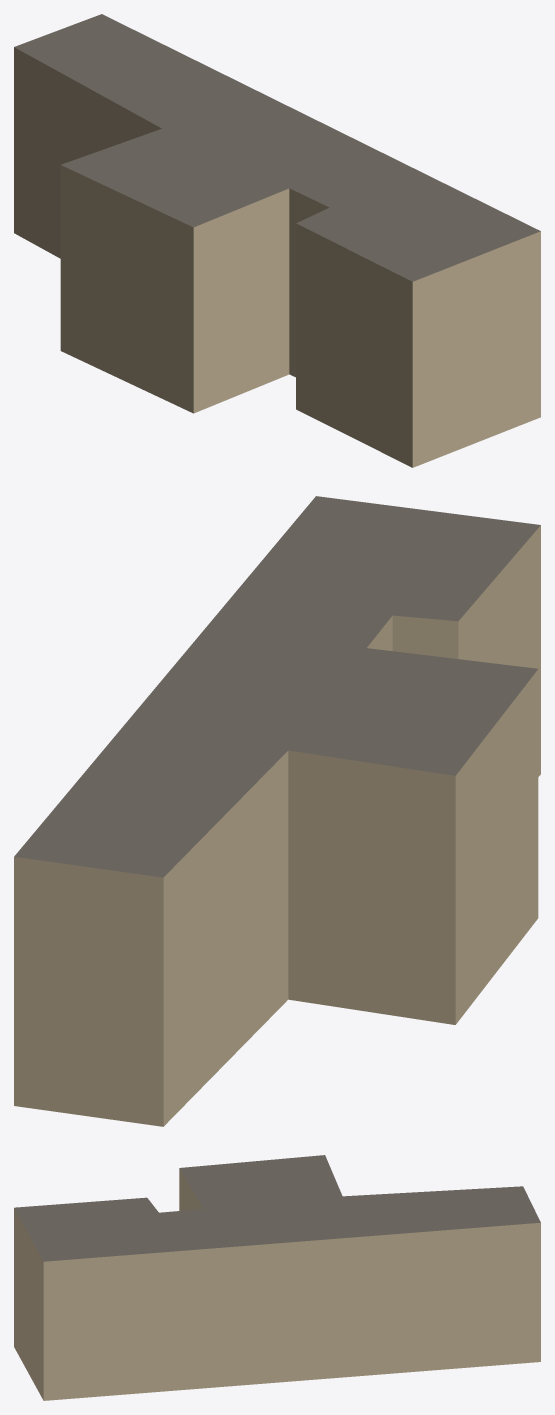
3 views of the same model, one above another, from view 1: azimuth 30°, elevation 25°; view 2: azimuth 150°, elevation 25°; view 3: azimuth 270°, elevation 25° (orthographic). The views are drawn at different scales.
Visible parts, largest first — view 1: HP-w300651771; view 2: HP-w300651771; view 3: HP-w300651771.
Part boxes in pixels (x1=…): HP-w300651771: x1=14, y1=14, x2=540, y2=467; HP-w300651771: x1=14, y1=496, x2=540, y2=1126; HP-w300651771: x1=14, y1=1155, x2=540, y2=1400.
Size of the model in its own units: 21.7 by 13.2 by 45.28.
